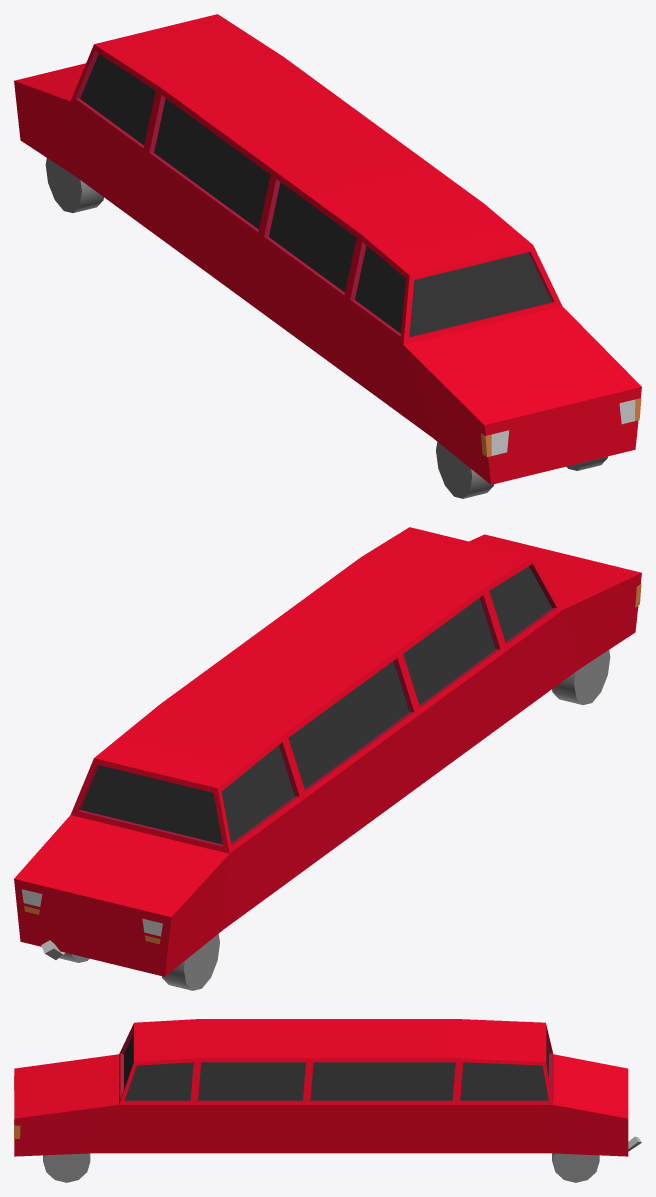
The model's file is limo_04.fbx.
3 views of the same model, one above another, from view 1: azimuth 30°, elevation 25°; view 2: azimuth 150°, elevation 25°; view 3: azimuth 270°, elevation 25° (orthographic). The views are drawn at different scales.
Parts seen in each view (by area): view 1: limo_04; view 2: limo_04; view 3: limo_04.
Boxes of the visible parts, x1=… form: limo_04: x1=14, y1=14, x2=641, y2=498; limo_04: x1=14, y1=527, x2=641, y2=990; limo_04: x1=14, y1=1019, x2=641, y2=1182.
Bounding box in the file's own units: 1.6 × 1.8 × 8.39.
